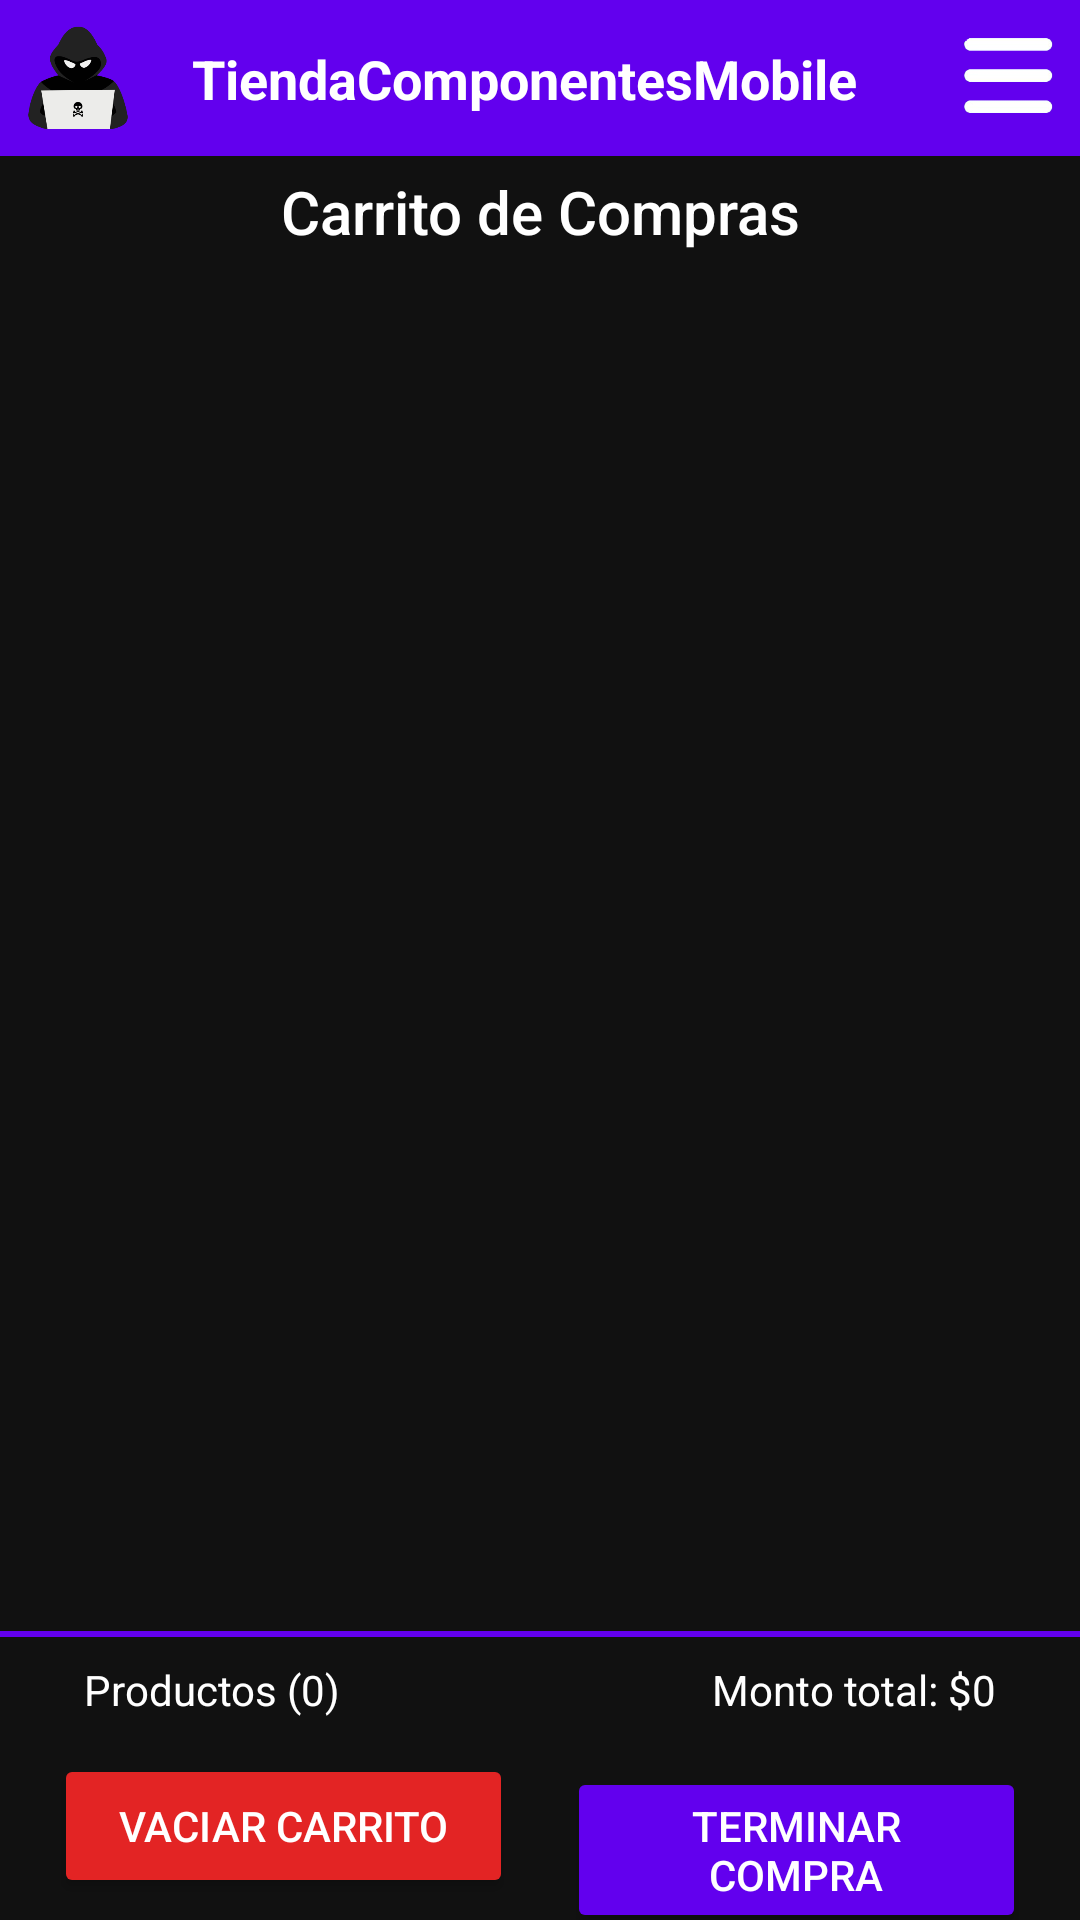

Named icons in this screenshot (1080px x 1920px) and their centers, point (x, y):
hamburguesa: point (1008, 75)
